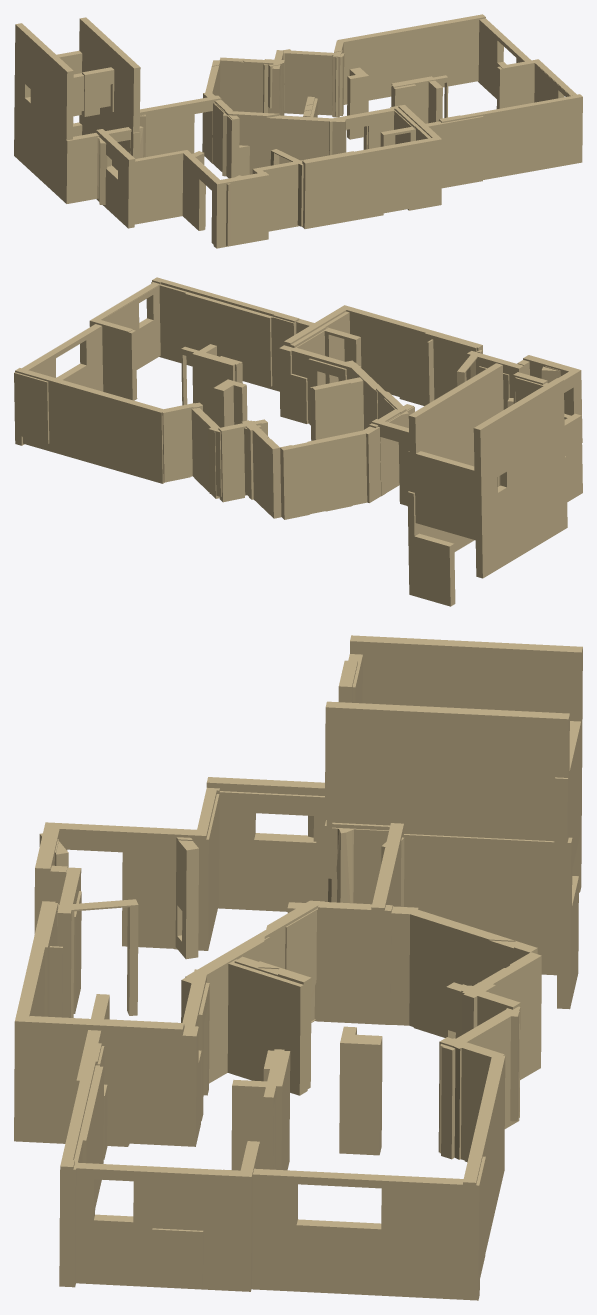
Rendered from magok1-wall.glb.
3 views of the same model, one above another, from view 1: azimuth 30°, elevation 25°; view 2: azimuth 150°, elevation 25°; view 3: azimuth 270°, elevation 25° (orthographic). The views are drawn at different scales.
Parts seen in each view (by area): view 1: magok1-wall; view 2: magok1-wall; view 3: magok1-wall.
Boxes of the visible parts, x1,y1,x2,y2 form: magok1-wall: (14, 14, 582, 248); magok1-wall: (14, 277, 582, 606); magok1-wall: (14, 635, 582, 1300).
Size of the model in its own units: 1.29 by 0.449 by 0.7605.
